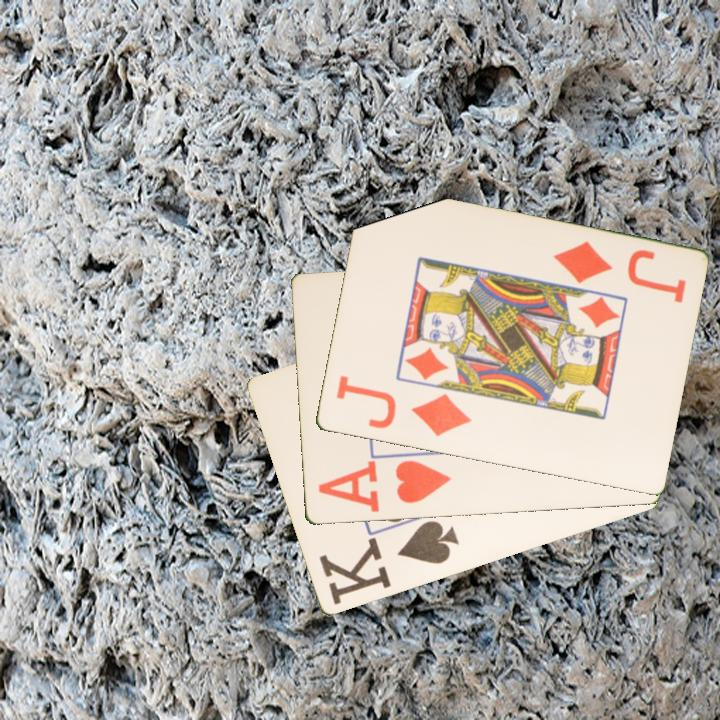Ah: (314, 457, 454, 516)
Jd: (548, 237, 689, 307), (332, 371, 474, 440)
Ks: (315, 517, 462, 608)
